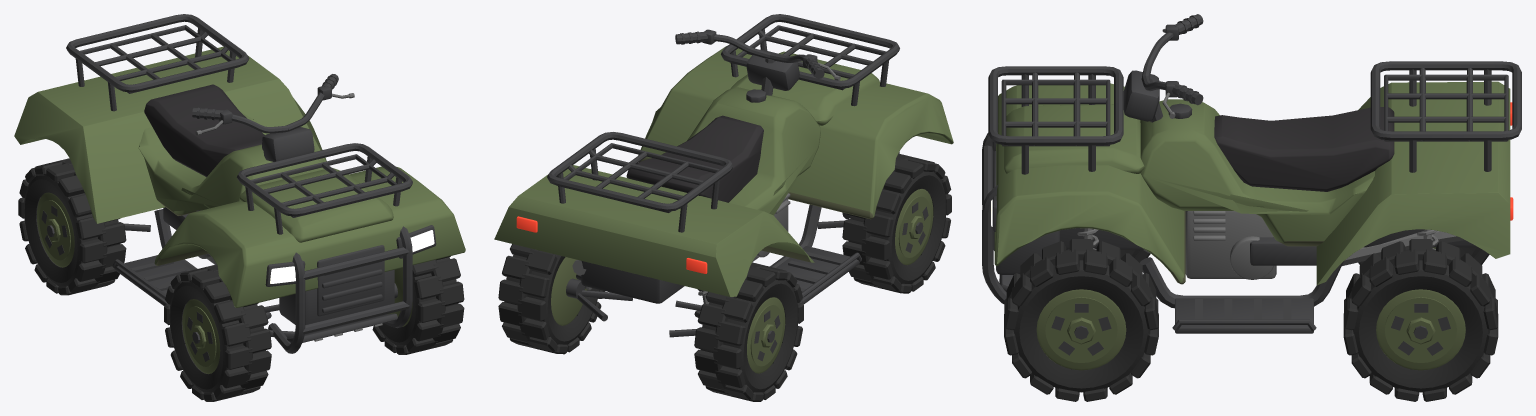
The model's file is ATV.fbx.
3 renders of one model, left to right at view 1: azimuth 30°, elevation 25°; view 2: azimuth 150°, elevation 25°; view 3: azimuth 270°, elevation 25°, orthographic. The views are drawn at different scales.
Parts seen in each view (by area): view 1: ATV_Mesh; view 2: ATV_Mesh; view 3: ATV_Mesh.
Part boxes in pixels (bbox=[...]): ATV_Mesh: bbox=[14, 14, 465, 401]; ATV_Mesh: bbox=[494, 14, 953, 401]; ATV_Mesh: bbox=[982, 14, 1521, 401].
Size of the model in its own units: 1.2 by 1.17 by 2.02.
